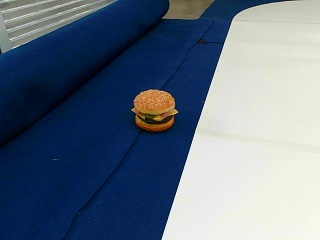burger: (132, 88, 177, 130)
